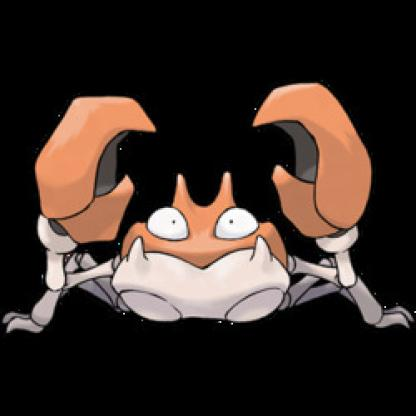Krabby: (6, 76, 415, 349)
